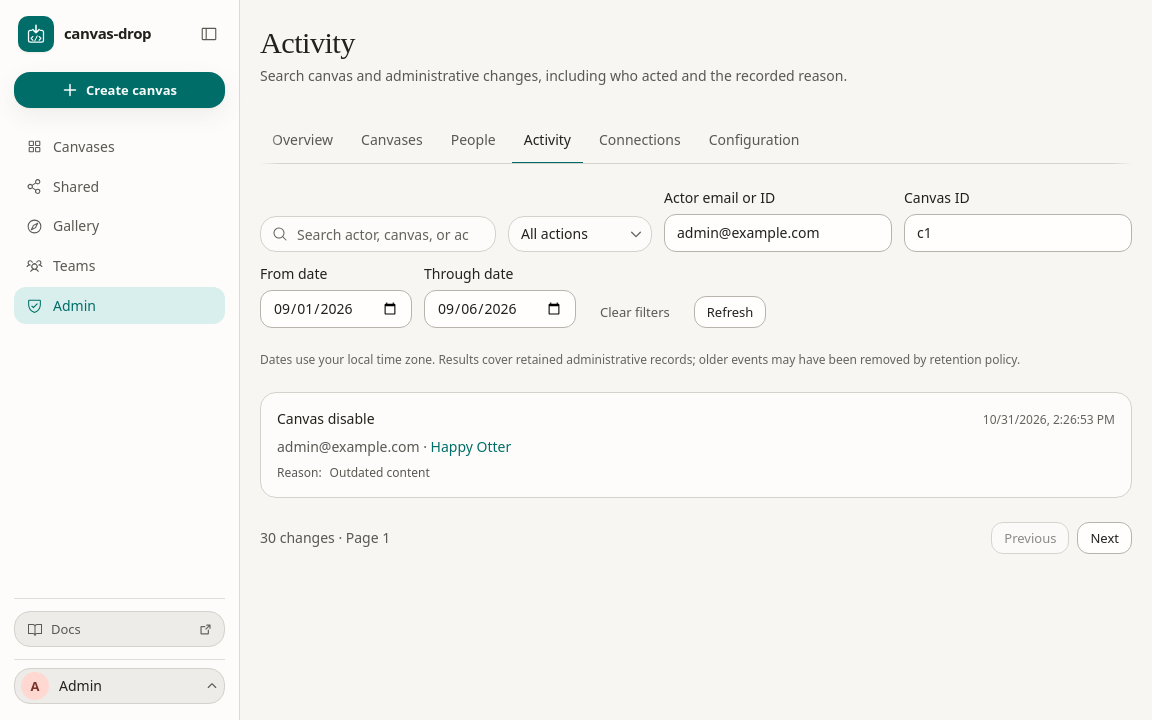
Test: admin dashboard › searches and pages activity using URL filters and opens the target inspector
Expected: the text "Outdated content" is shown, [330,465,430,481]
Click the button "Next": (1105, 538) [1078,522,1132,554]
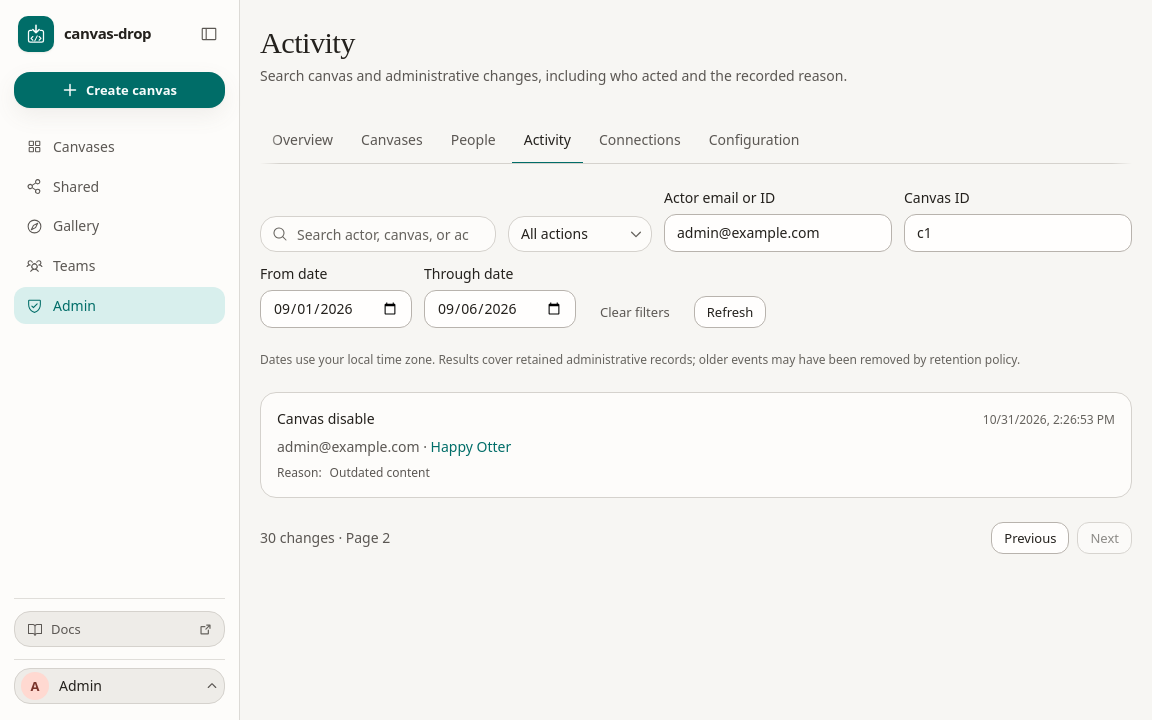
In the search field named "Search administrative activity": (378, 234) [260,216,496,252], type "outdated"
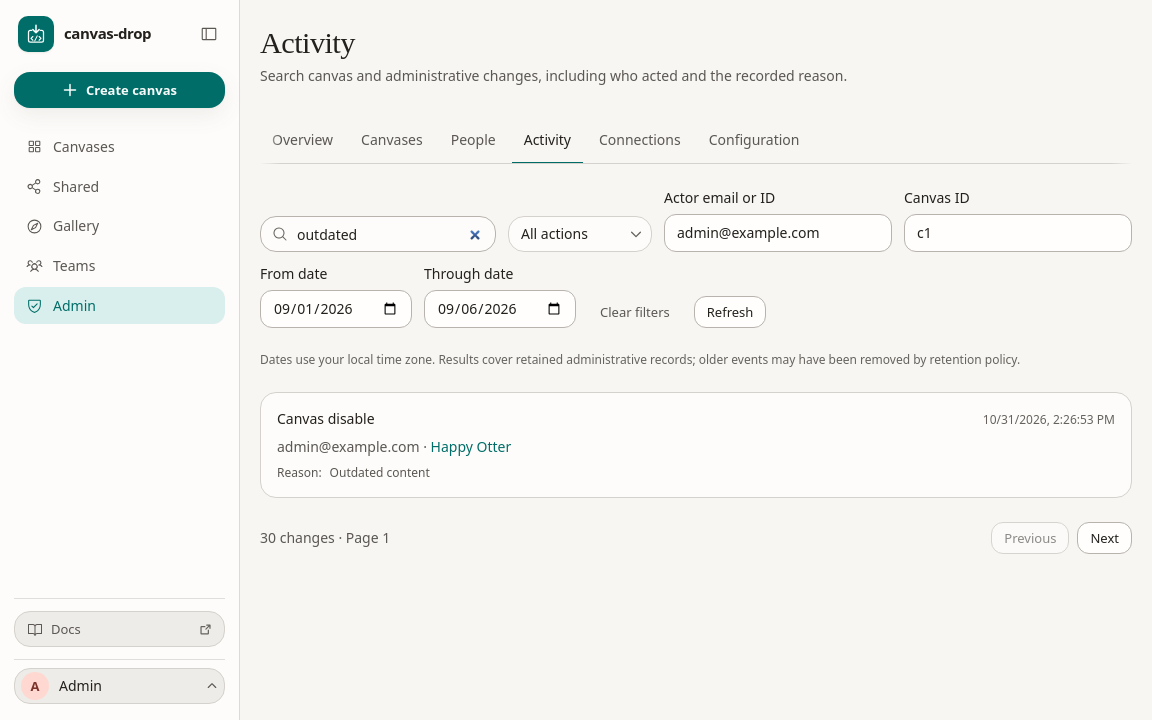
Click the link "Happy Otter": (471, 446) [431,437,511,456]
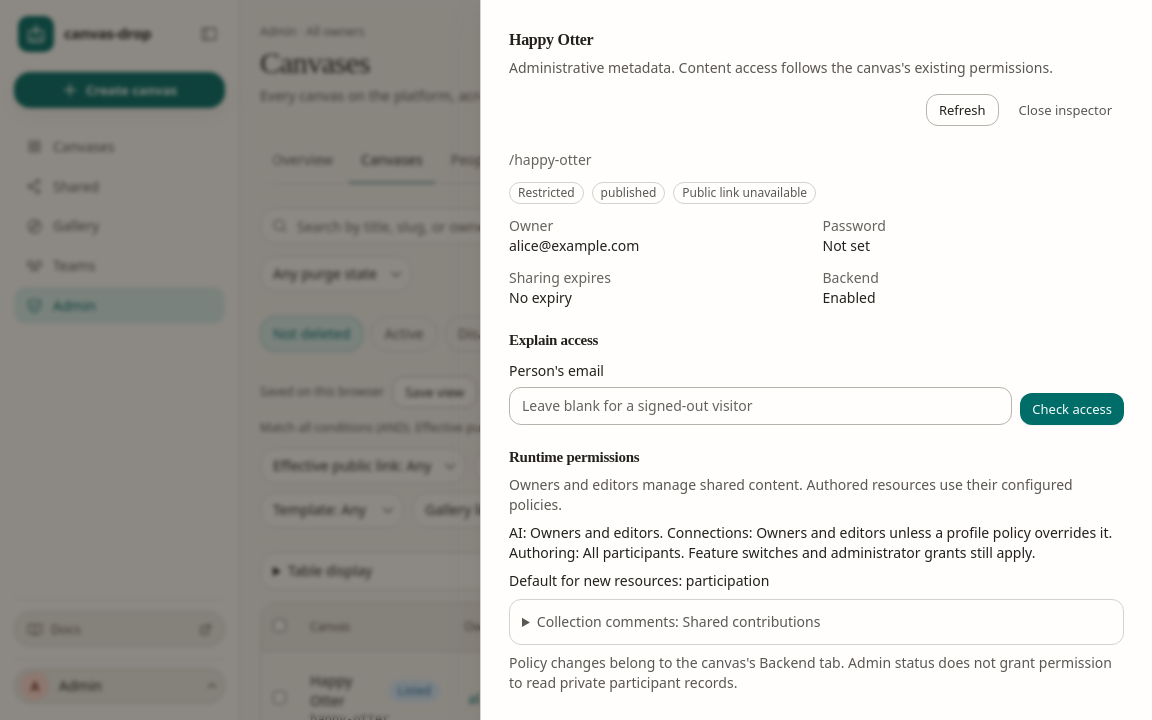
Now the dialog "Happy Otter" is shown, box [480,0,1151,719]
